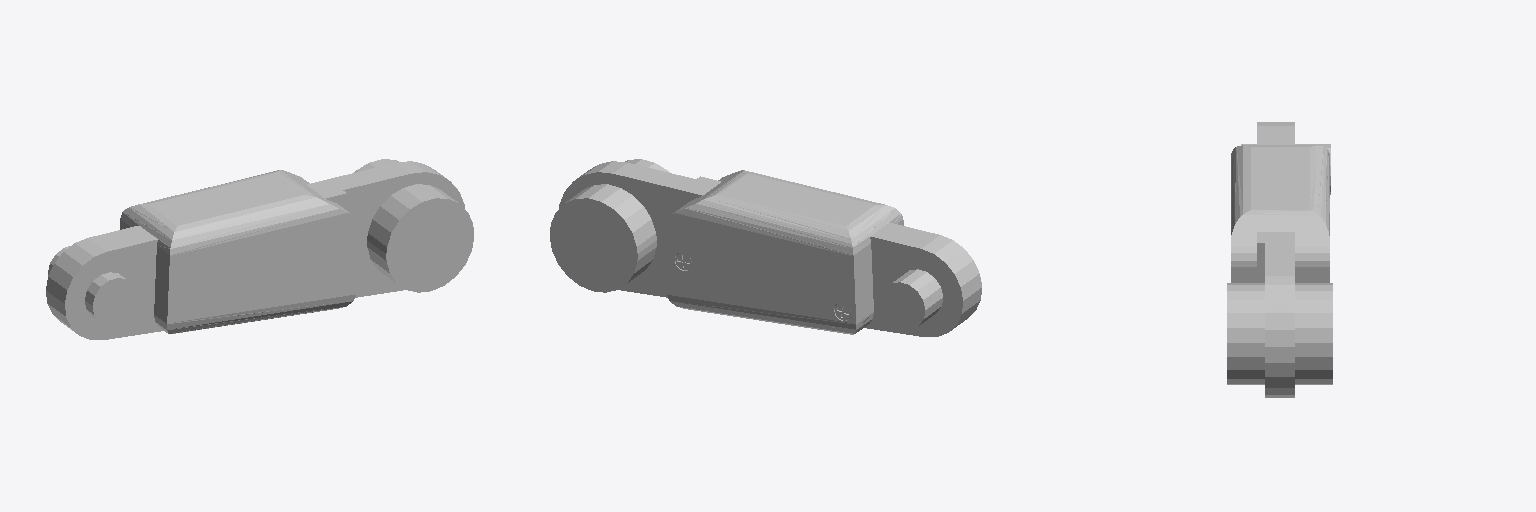
File: med_link.obj
3 views of the same model, side by side, from view 1: azimuth 30°, elevation 25°; view 2: azimuth 150°, elevation 25°; view 3: azimuth 270°, elevation 25° (orthographic).
Parts seen in each view (by area): view 1: med_link; view 2: med_link; view 3: med_link.
Part boxes in pixels (x1,y1,x2,y2): med_link: (46,159,473,339); med_link: (550,159,981,336); med_link: (1227,122,1332,397).
Size of the model in its own units: 0.0919 by 0.0275 by 0.021.